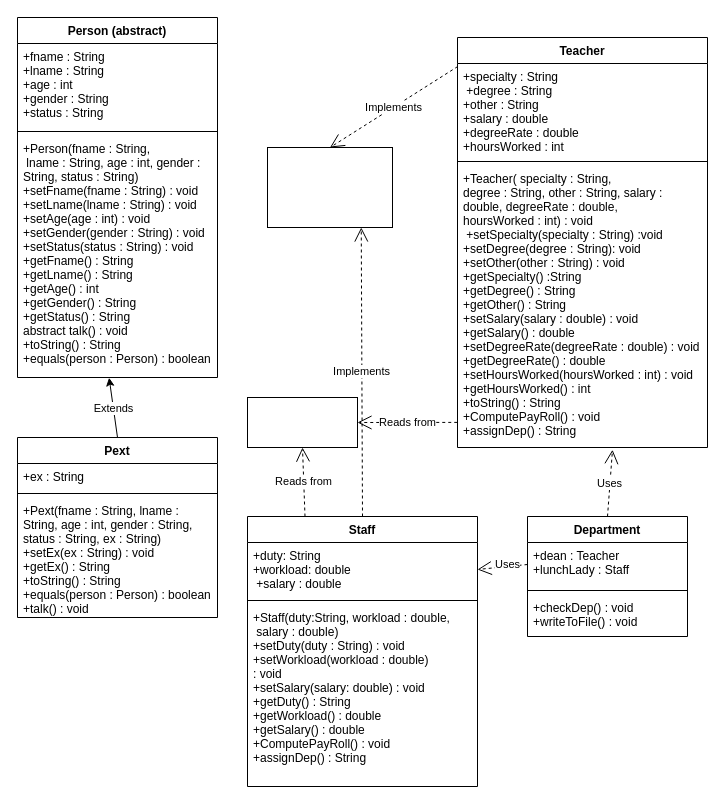
Some shapes in this 725 by 807 pixel diagram are drawn without their labels. The centre of each missing label's shape, as x and y in pixels:
"File : Departments" belongs at point (302, 422).
"«interface» PayRoll +ComputePayRoll()" belongs at point (329, 187).
